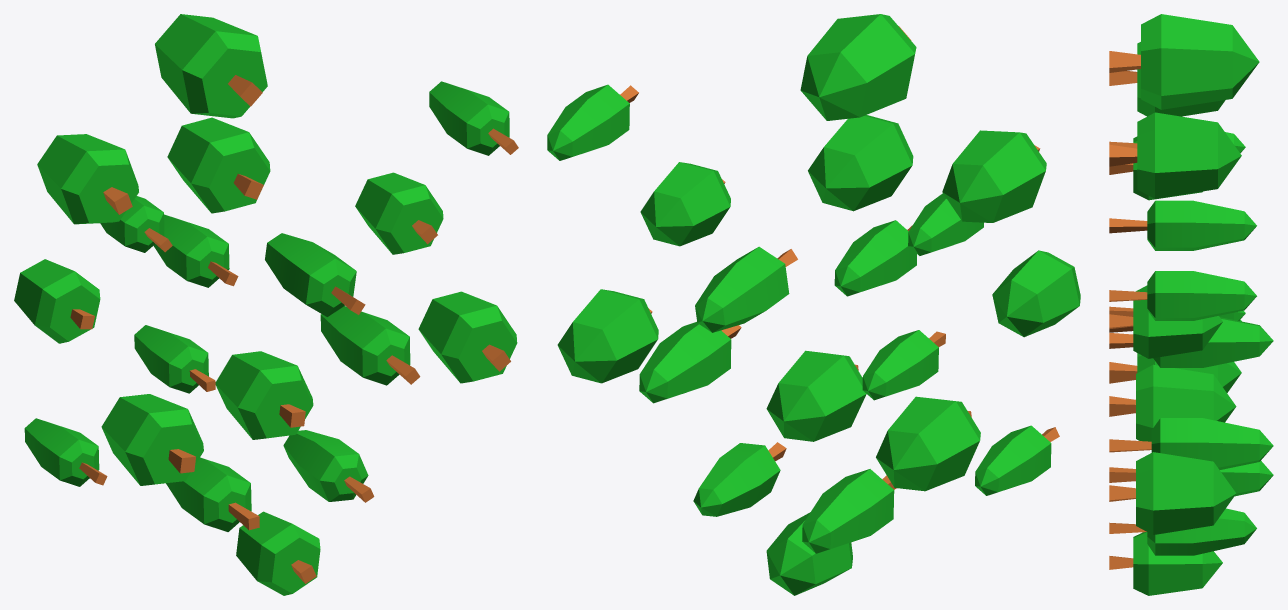
The model's file is nature_forestRiverDelta.fbx.
The picture shows the model from 3 angles, left to right: view 1: azimuth 30°, elevation 25°; view 2: azimuth 150°, elevation 25°; view 3: azimuth 270°, elevation 25°; orthographic projection. The views are drawn at different scales.
Visible parts, largest first — view 1: Forest; view 2: Forest; view 3: Forest.
Boxes of the visible parts, <box> form: Forest: <box>14,14,518,595</box>; Forest: <box>547,14,1080,595</box>; Forest: <box>1109,14,1273,595</box>.
Bounding box in the file's own units: 171 × 194 × 52.39.
